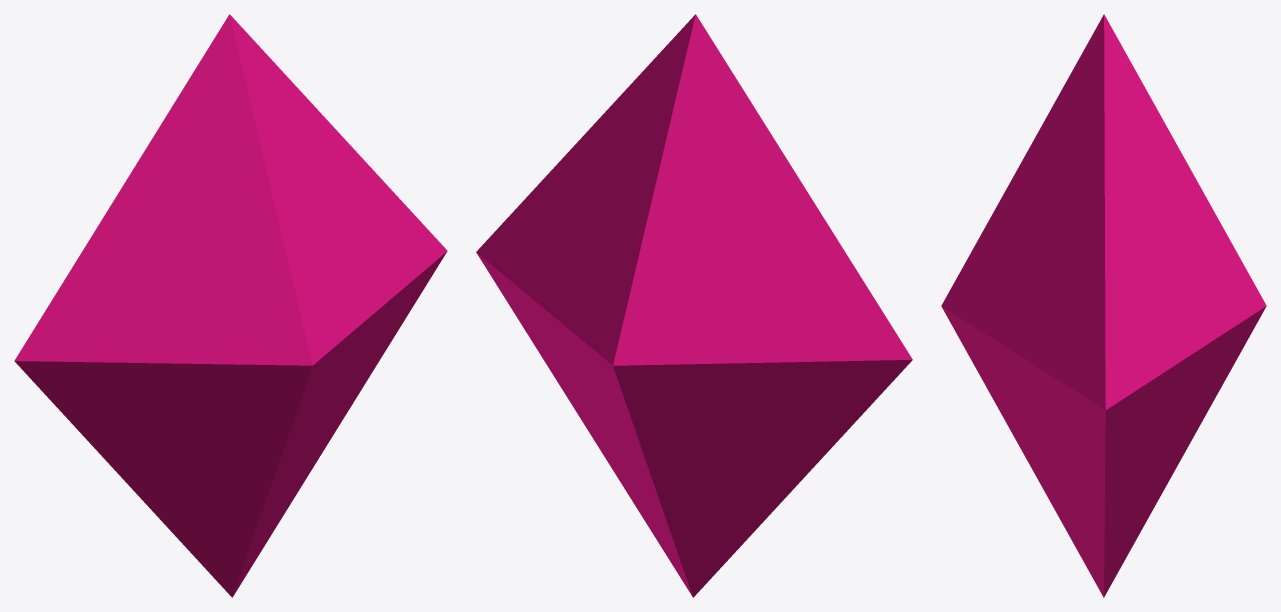
File: CristalLight2.fbx
3 views of the same model, side by side, from view 1: azimuth 30°, elevation 25°; view 2: azimuth 150°, elevation 25°; view 3: azimuth 270°, elevation 25° (orthographic).
Parts seen in each view (by area): view 1: CristalLight2; view 2: CristalLight2; view 3: CristalLight2.
Part boxes in pixels (<box>): CristalLight2: <box>14,14,447,597</box>; CristalLight2: <box>476,14,912,597</box>; CristalLight2: <box>941,14,1266,597</box>.
Size of the model in its own units: 283 by 363 by 184.
